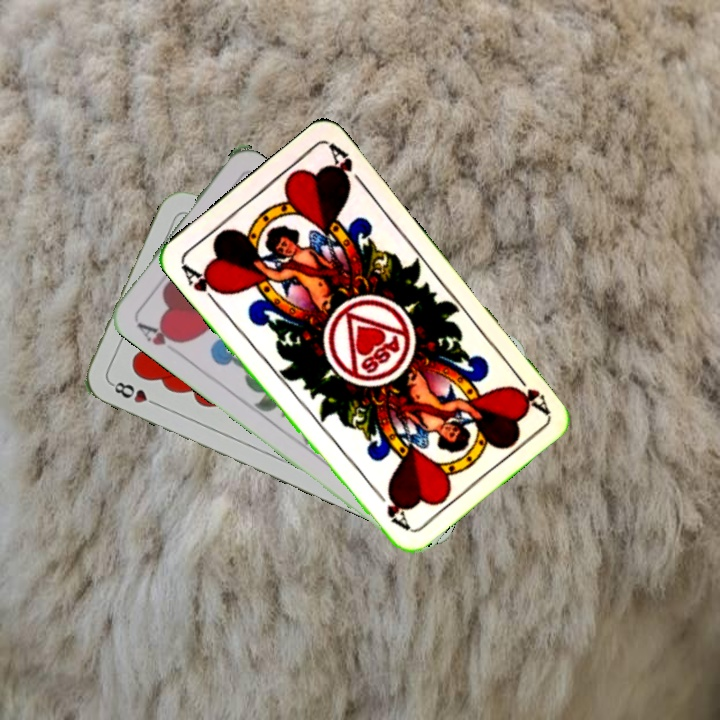H8: (106, 377, 163, 409)
HA: (177, 260, 226, 309), (506, 366, 552, 417), (132, 317, 186, 349)
